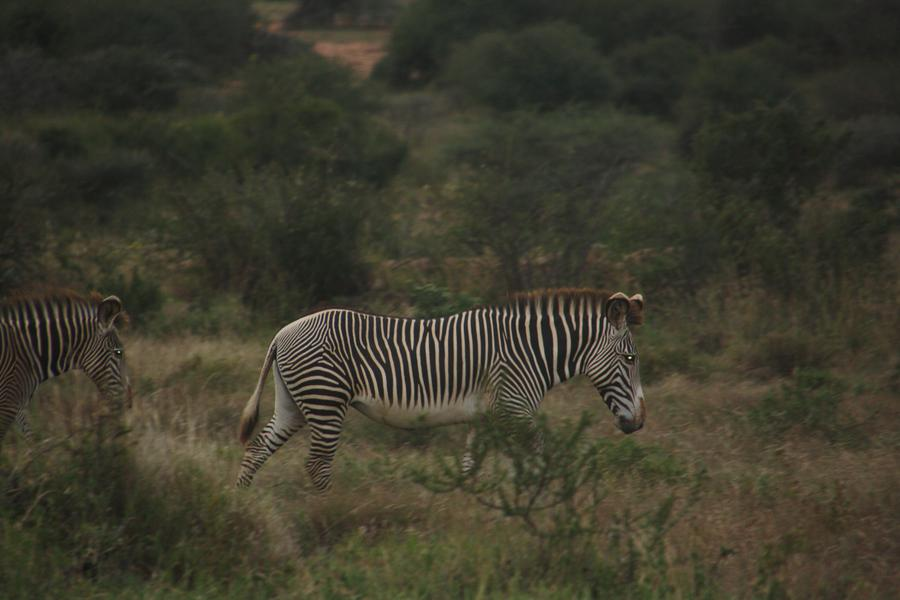zebra_grevys: (265, 293, 542, 412)
